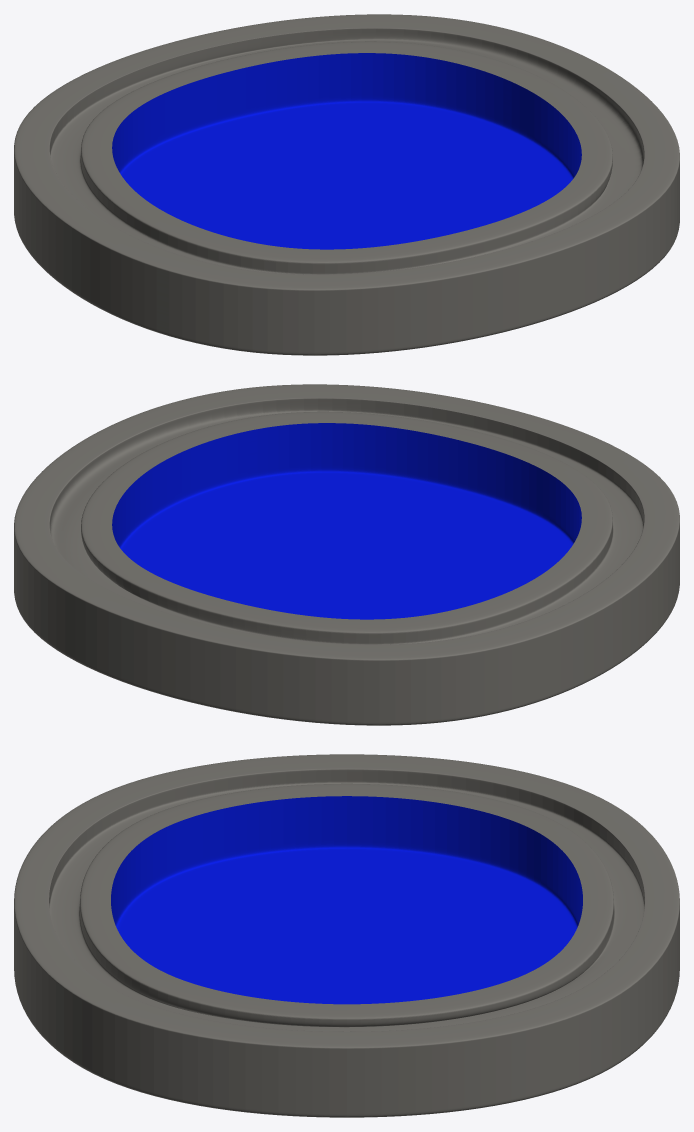
The model's file is BattleArena2.fbx.
3 renders of one model, top to bottom at view 1: azimuth 30°, elevation 25°; view 2: azimuth 150°, elevation 25°; view 3: azimuth 270°, elevation 25°, orthographic. The views are drawn at different scales.
Visible parts, largest first — view 1: Arena Backup.001, Arena Backup.000; view 2: Arena Backup.001, Arena Backup.000; view 3: Arena Backup.001, Arena Backup.000.
Part boxes in pixels (x1,y1,x2,y2): Arena Backup.001: (14, 14, 679, 355); Arena Backup.000: (112, 53, 581, 249); Arena Backup.001: (14, 384, 679, 725); Arena Backup.000: (112, 423, 581, 619); Arena Backup.001: (14, 754, 679, 1117); Arena Backup.000: (111, 796, 582, 1004).
Size of the model in its own units: 710 by 82.63 by 680.
